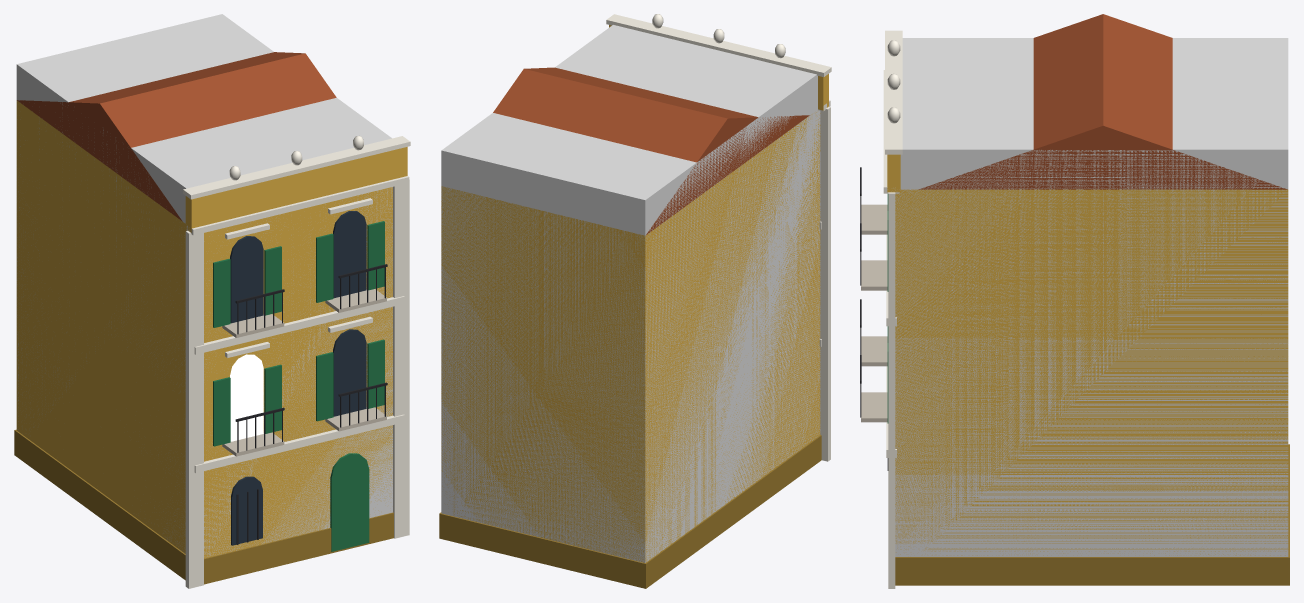
File: sobrado_1.glb
3 renders of one model, left to right at view 1: azimuth 30°, elevation 25°; view 2: azimuth 150°, elevation 25°; view 3: azimuth 270°, elevation 25°, orthographic. The views are drawn at different scales.
Parts seen in each view (by area): view 1: sobrado_1_Malla, COL_0; view 2: sobrado_1_Malla, COL_0; view 3: sobrado_1_Malla, COL_0.
Part boxes in pixels (bbox=[...]): sobrado_1_Malla: bbox=[14, 52, 410, 588]; COL_0: bbox=[16, 14, 392, 556]; sobrado_1_Malla: bbox=[439, 14, 831, 588]; COL_0: bbox=[441, 25, 820, 562]; sobrado_1_Malla: bbox=[860, 14, 1289, 588]; COL_0: bbox=[895, 38, 1288, 556].
Bounding box in the file's own units: 6.44 × 11.5 × 9.76.
